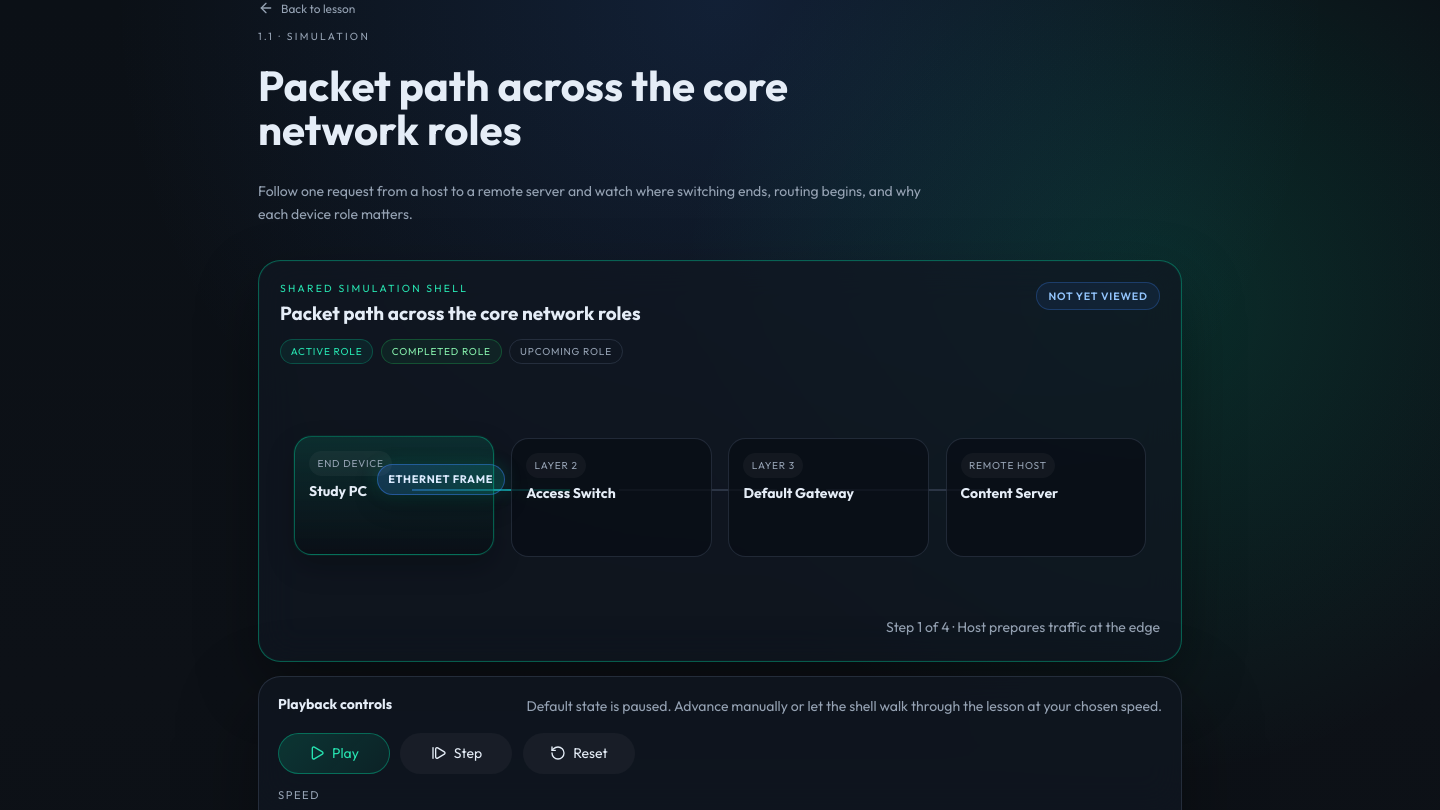
Test: SimulationPage › marks the simulation viewed after desktop interaction
Click the button "Step".
click(456, 753)  # box x1=400 y1=732 x2=512 y2=774
(page scrolled)
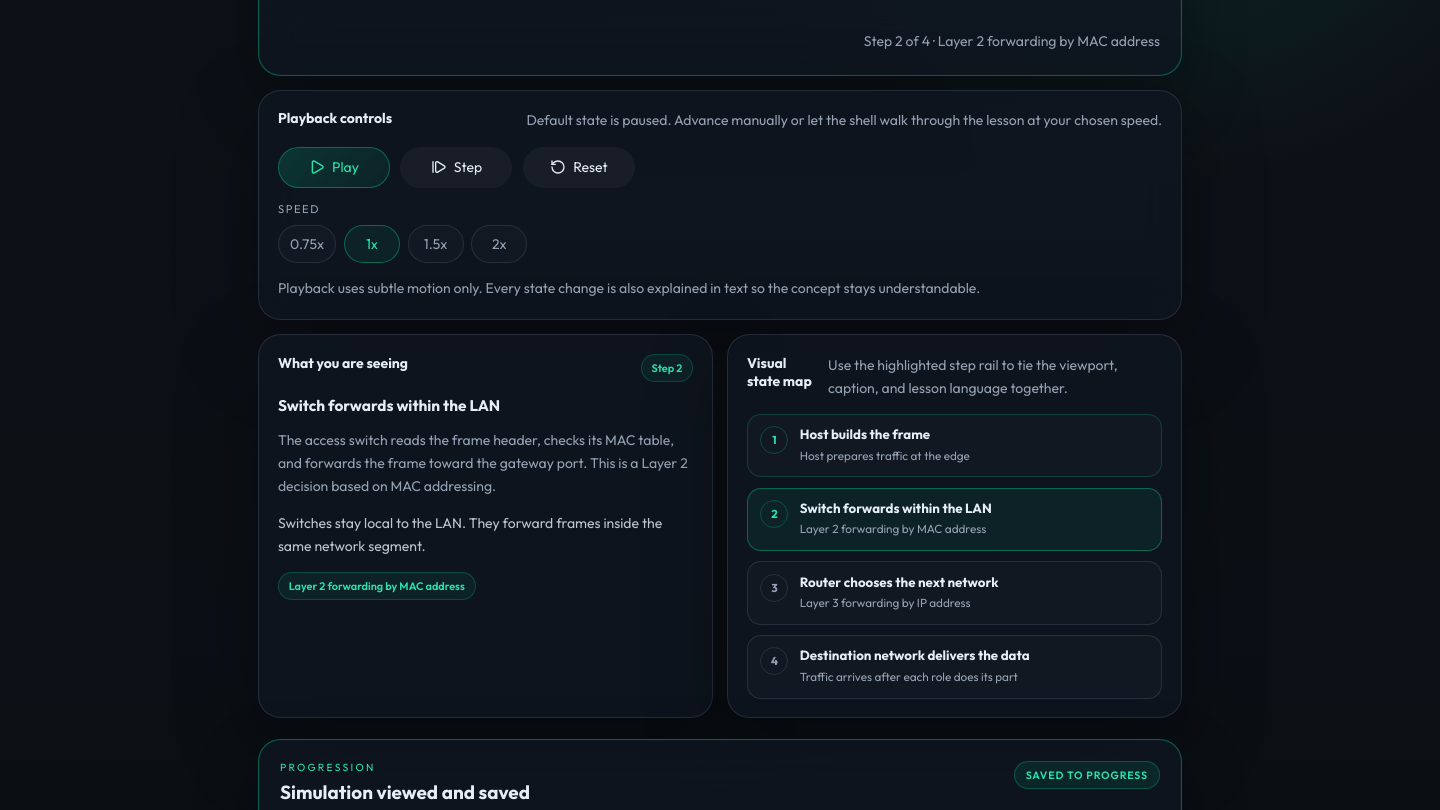
Expected: the heading "Switch forwards within the LAN" is shown, x1=278 y1=396 x2=500 y2=415
